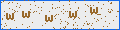w: (44, 14, 54, 23), (22, 10, 31, 19), (90, 6, 99, 15), (68, 10, 78, 18), (5, 13, 14, 20)
